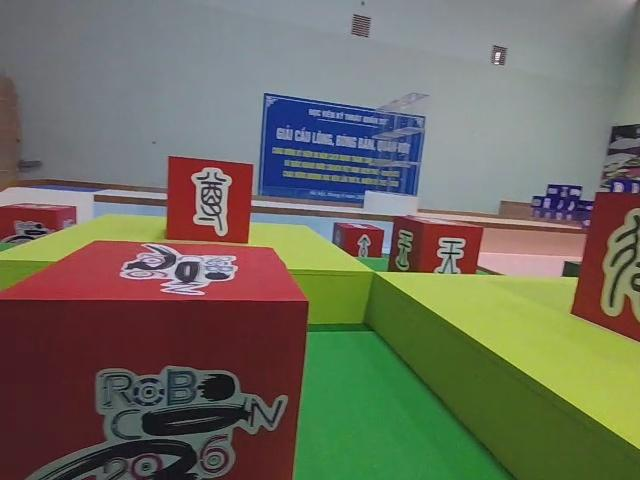R1: (0, 238, 308, 480), (0, 197, 78, 252)
R2 Fake: (569, 188, 640, 342), (166, 153, 256, 244)
R2 Real: (387, 215, 484, 275), (330, 220, 386, 264)
